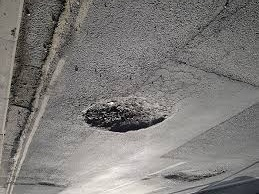pothole: (10, 2, 68, 112), (77, 90, 185, 133), (160, 165, 229, 184), (38, 180, 60, 187)
